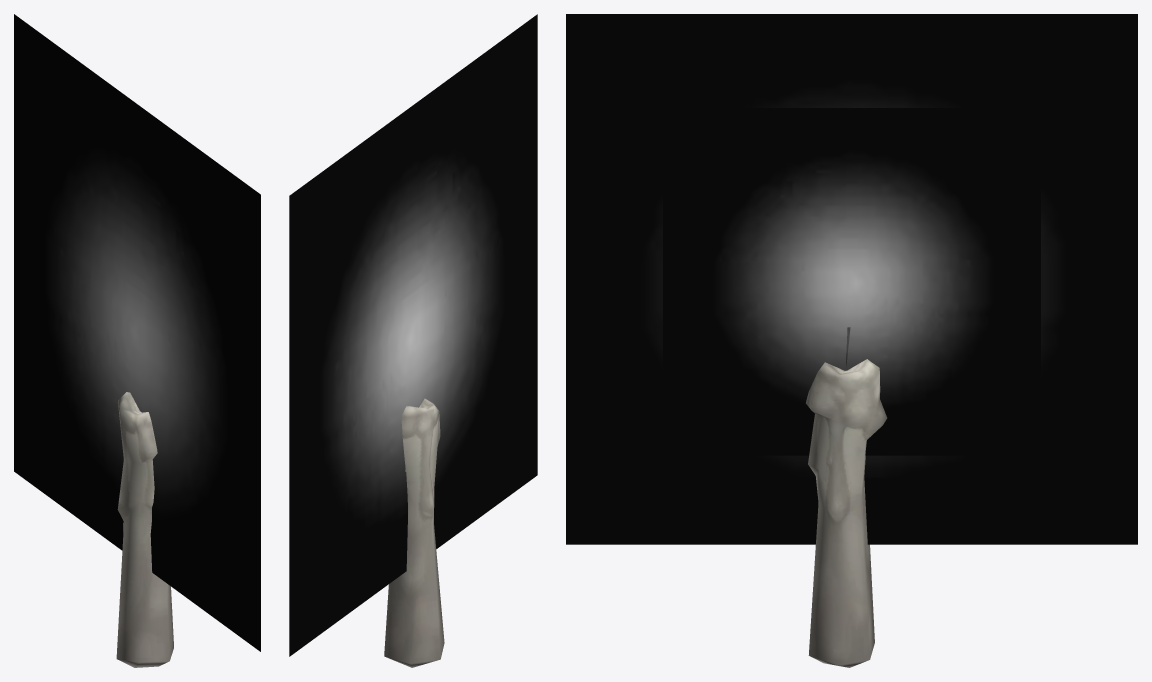
3 views of the same model, side by side, from view 1: azimuth 30°, elevation 25°; view 2: azimuth 150°, elevation 25°; view 3: azimuth 270°, elevation 25° (orthographic). The views are drawn at different scales.
Size of the model in its own units: 0.1946 by 1.88 by 1.51.
3 materials, 3 textured.
